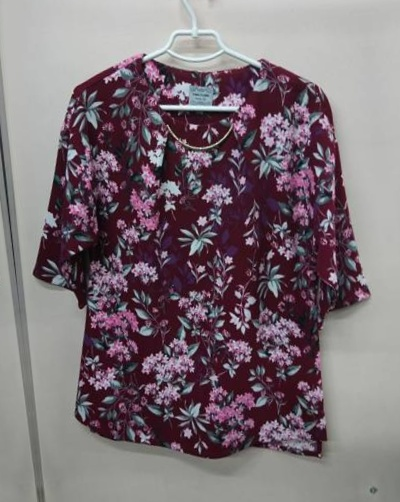Blouse: (1, 7, 393, 502), (0, 48, 30, 502), (385, 0, 400, 459)
